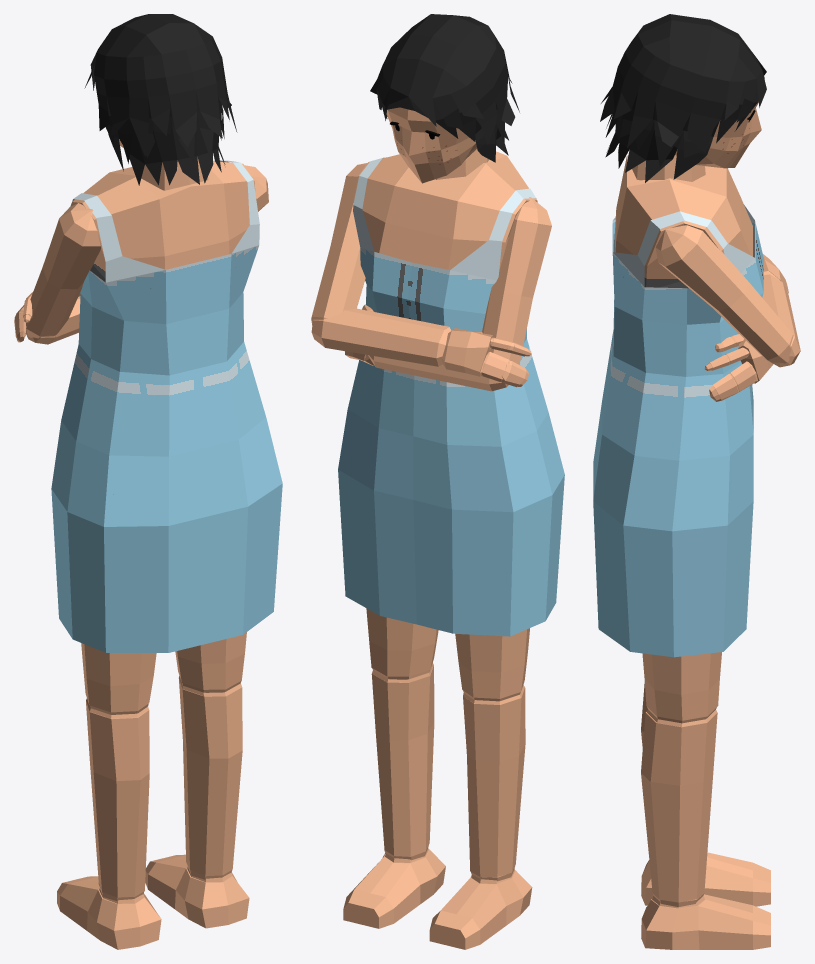
The model's file is DreamLevelImage3.gltf.
3 views of the same model, side by side, from view 1: azimuth 30°, elevation 25°; view 2: azimuth 150°, elevation 25°; view 3: azimuth 270°, elevation 25° (orthographic).
Visible parts, largest first — view 1: Dress (×4), Hair, Torso, Right Lower Leg, Left Lower Leg, Left Foot, Right Foot, Left Upper Arm, Left Upper Leg, Right Upper Leg, sphere, Neck; view 2: Dress (×4), Hair, Torso, Right Lower Leg, Left Lower Leg, Left Upper Arm, Right Lower Arm, Right Foot, Left Foot, Left Upper Leg, Right Upper Arm, Head (+4 smaller); view 3: Dress (×3), Hair, Right Lower Leg, Torso, Right Upper Arm, Right Foot, Right Upper Leg, Left Foot, Head, sphere, Right Lower Arm, Neck (+1 smaller).
Part boxes in pixels (x1,y1,x2,y2): Dress (×4): (51, 160, 282, 652); Hair: (84, 14, 237, 185); Torso: (70, 160, 255, 288); Right Lower Leg: (178, 678, 242, 876); Left Lower Leg: (86, 701, 149, 897); Left Foot: (57, 876, 161, 949); Right Foot: (145, 854, 249, 928); Left Upper Arm: (26, 219, 100, 336); Left Upper Leg: (81, 643, 156, 712); Right Upper Leg: (175, 632, 246, 689); sphere: (59, 203, 100, 246); Neck: (141, 157, 208, 190); Dress (×4): (338, 157, 564, 636); Hair: (370, 14, 519, 162); Torso: (353, 151, 537, 425); Right Lower Leg: (371, 664, 434, 856); Left Lower Leg: (463, 686, 525, 877); Left Upper Arm: (482, 219, 551, 364); Right Lower Arm: (321, 308, 448, 366); Right Foot: (343, 849, 445, 928); Left Foot: (429, 870, 532, 949); Left Upper Leg: (455, 628, 529, 698); Right Upper Arm: (311, 176, 365, 318); Head: (386, 107, 476, 183); Dress (×3): (593, 205, 763, 657); Hair: (600, 14, 766, 182); Right Lower Leg: (641, 712, 717, 902); Torso: (614, 155, 754, 288); Right Upper Arm: (659, 231, 792, 360); Right Foot: (641, 894, 770, 949); Right Upper Leg: (642, 652, 721, 720); Left Foot: (641, 852, 770, 906); Head: (675, 102, 761, 168); sphere: (655, 225, 702, 266); Right Lower Arm: (762, 274, 800, 358); Neck: (632, 155, 705, 181).
Bounding box in the file's own units: 0.219 × 0.8689 × 0.1823.
9 materials, 9 textured.
